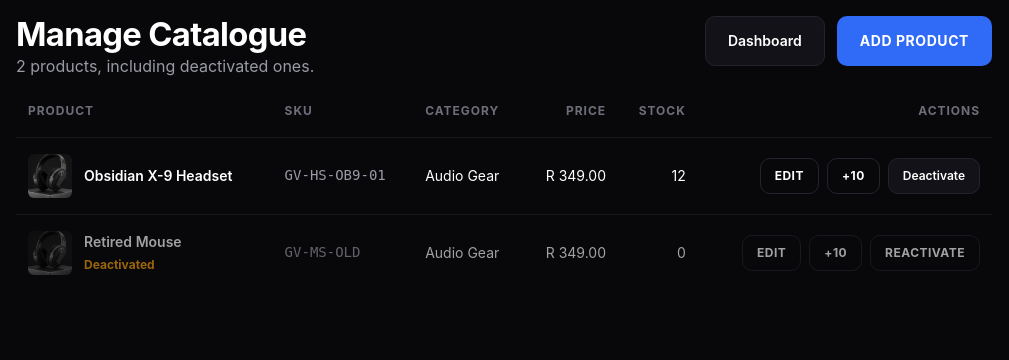
Test case: stock and availability › a failed change is reported rather than silently doing nothing
Check: the text "Obsidian X-9 Headset" is shown, box [84,165,232,187]
Click the button "+10" in the row of "Obsidian X-9 Headset" at (853, 176), box [827,158,880,194]
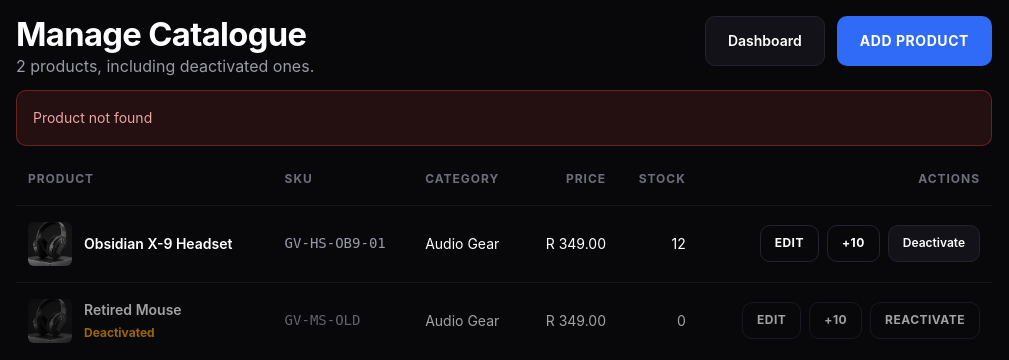
Check: the message reads "Product not found", box [33,110,152,126]
